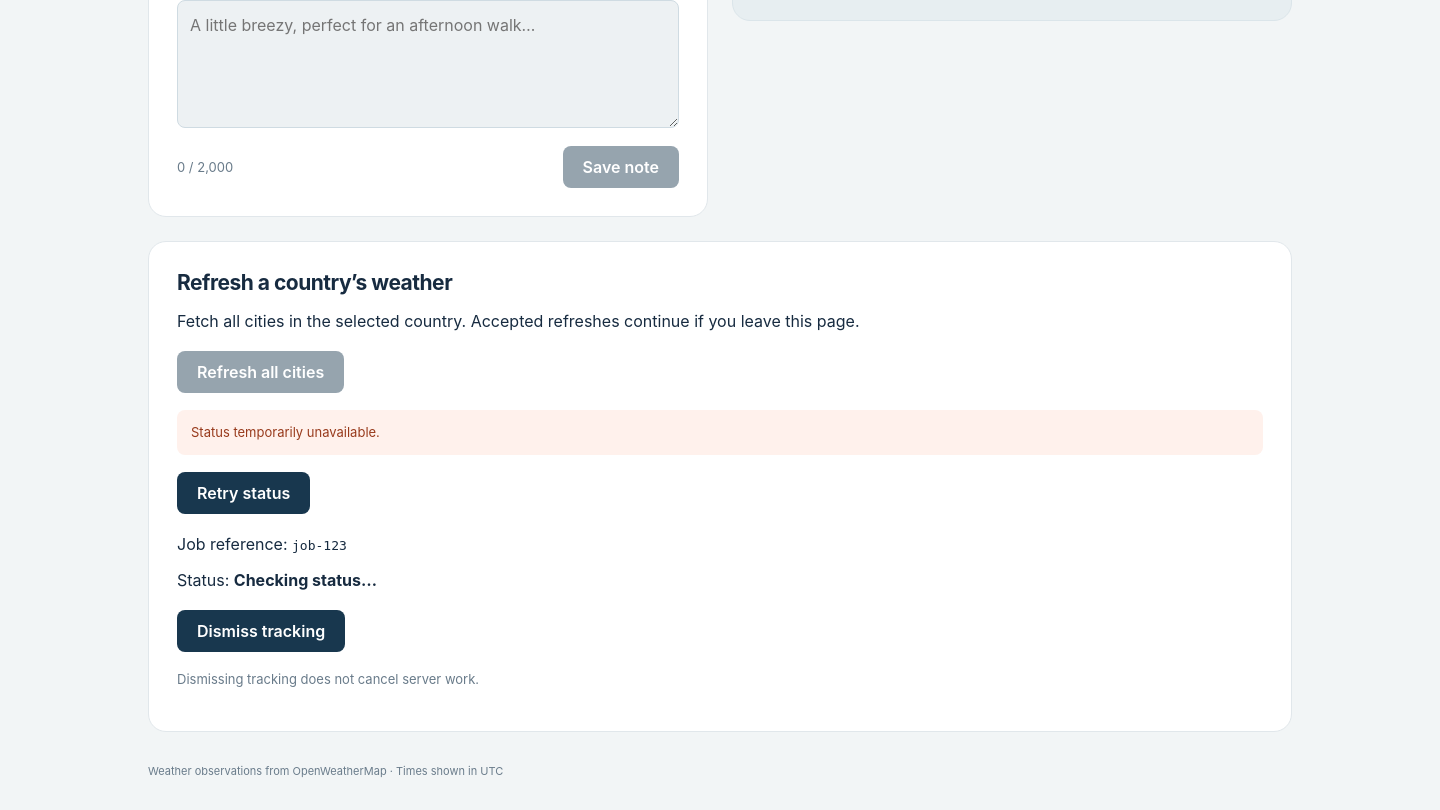
Test: browser reload restores job and status errors offer retry without another submission
The width and height of the screenshot is (1440, 810).
(page scrolled)
Check: the message reads "Status temporarily unavailable.", box [191, 424, 380, 440]
Click the button "Retry status" at (244, 493), box [177, 472, 310, 514]
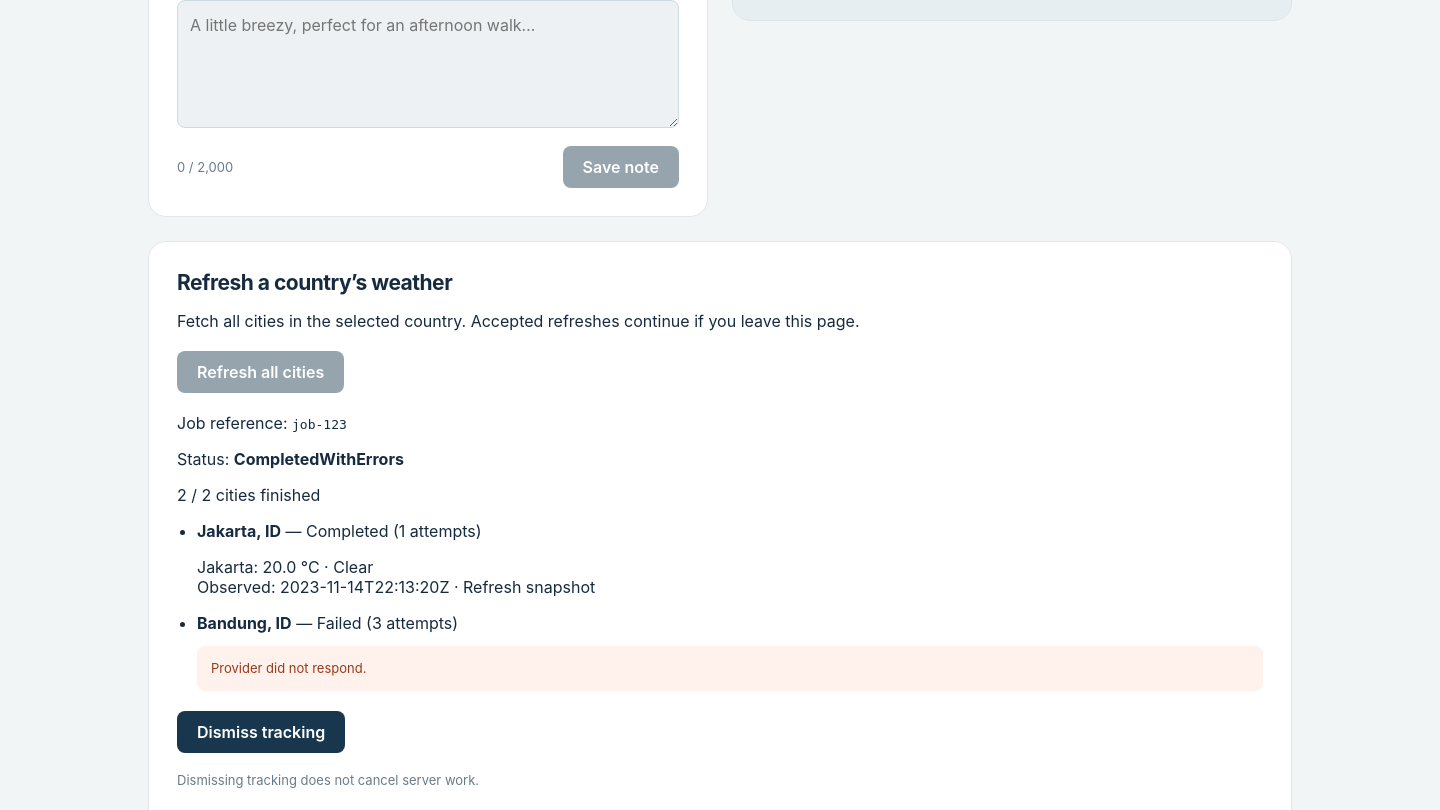
Check: the text "CompletedWithErrors" is shown, box [234, 449, 404, 469]
